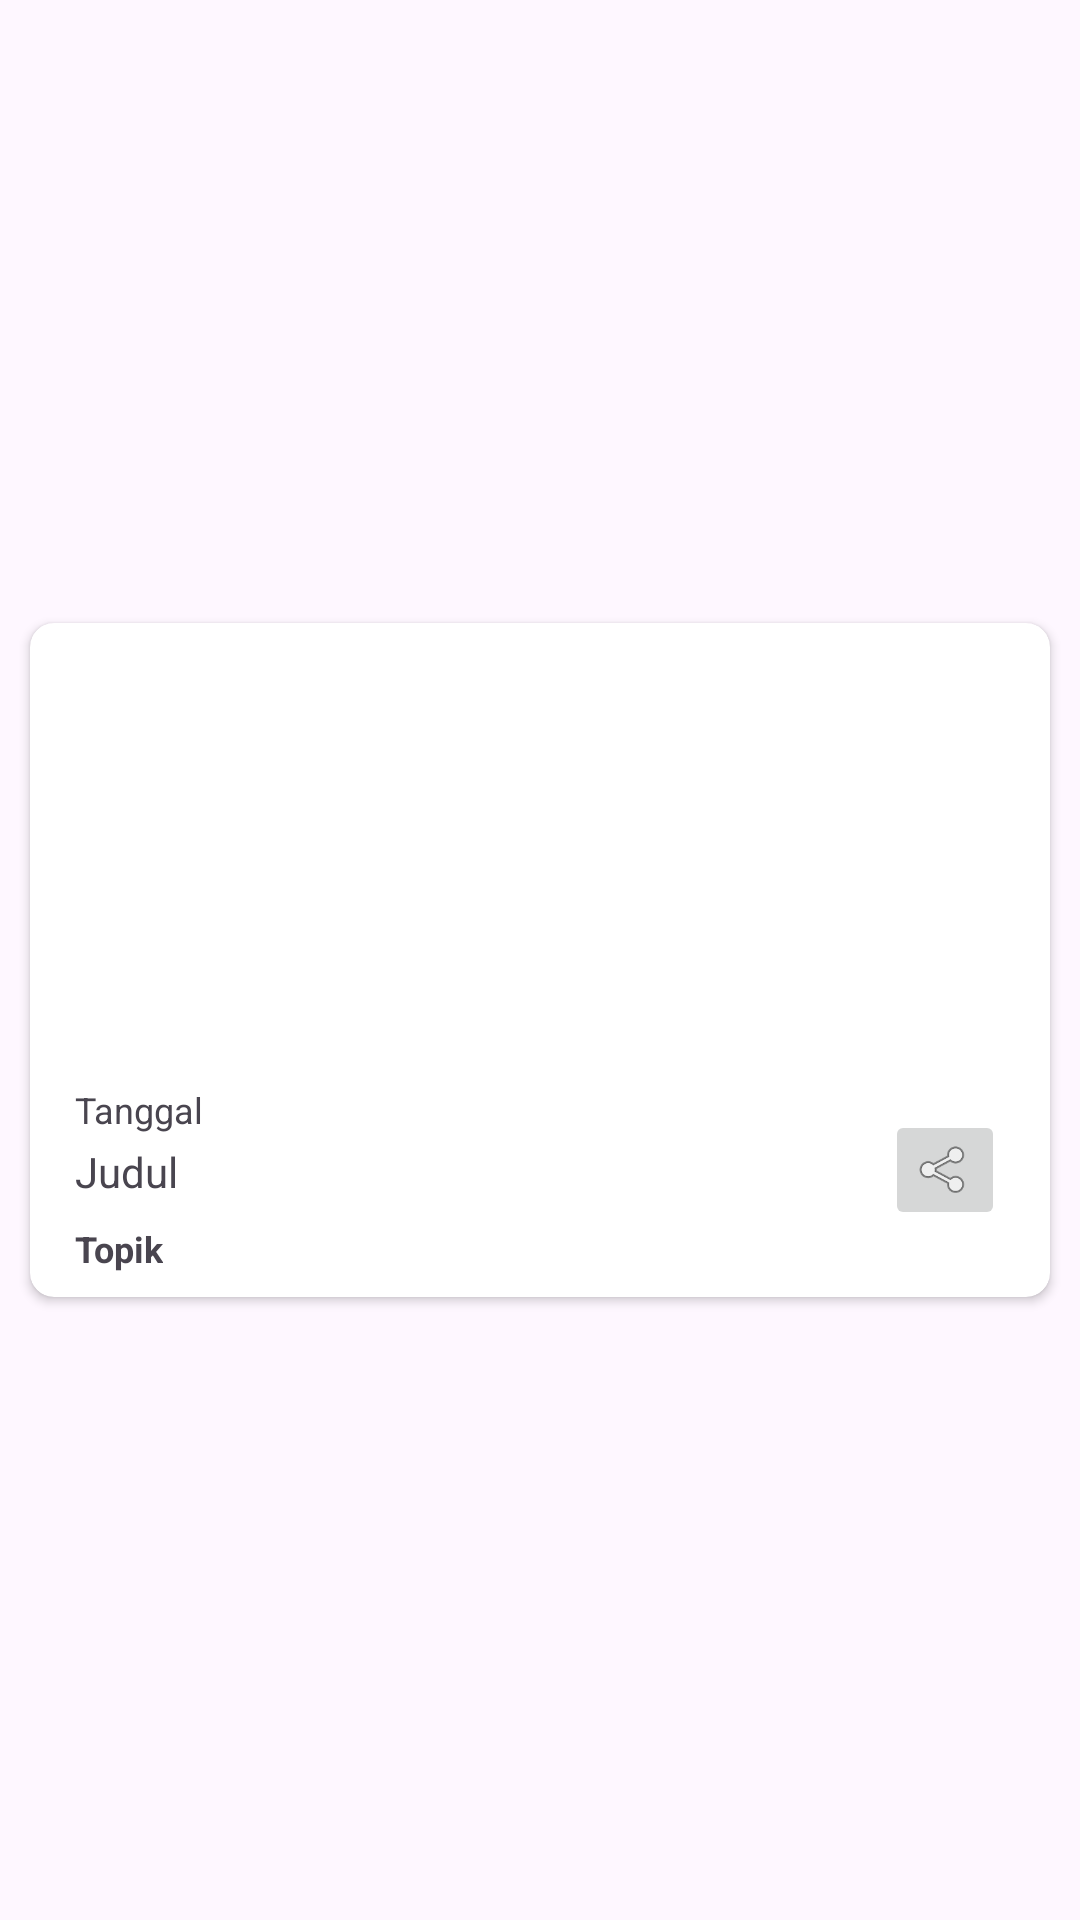

Named icons in this screenshot (1080×1920) and their bounding boxes, (x1, y1, x2, y2):
share: (897, 1128, 993, 1212)
